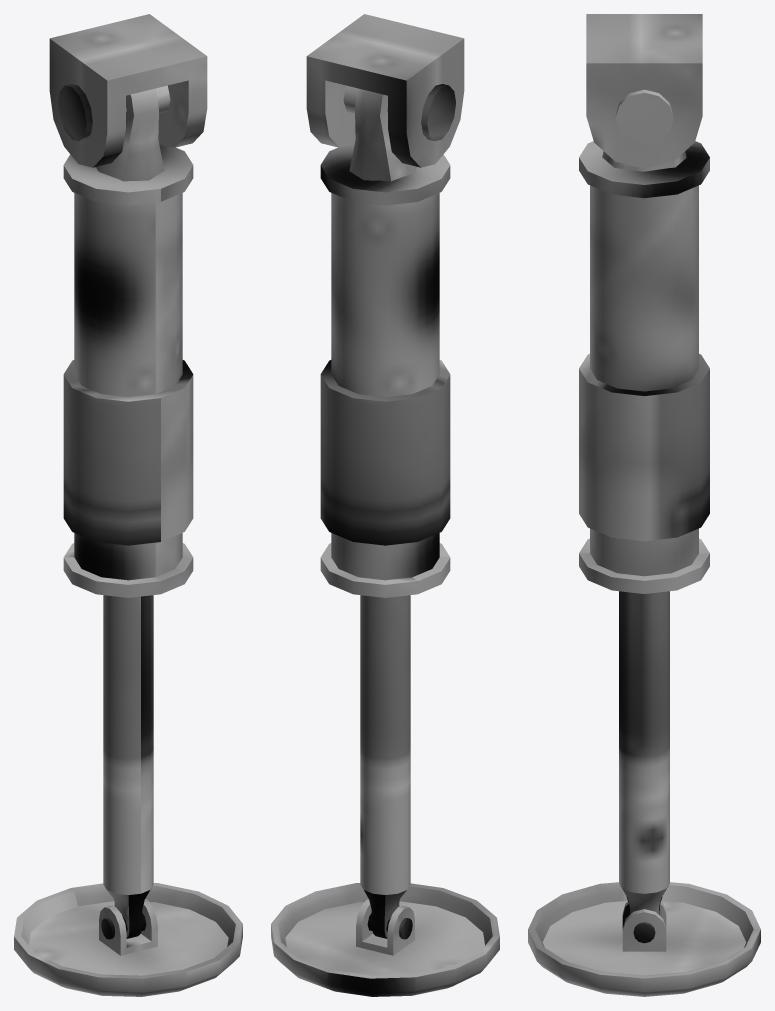
File: leg.fbx
The picture shows the model from 3 angles, left to right: view 1: azimuth 30°, elevation 25°; view 2: azimuth 150°, elevation 25°; view 3: azimuth 270°, elevation 25°; orthographic projection.
Parts seen in each view (by area): view 1: upper_leg, foot, base, lower_leg; view 2: upper_leg, foot, base, lower_leg; view 3: upper_leg, foot, base, lower_leg.
Part boxes in pixels (x1=…): upper_leg: x1=63, y1=85, x2=193, y2=597; foot: x1=14, y1=883, x2=242, y2=996; base: x1=49, y1=14, x2=207, y2=167; lower_leg: x1=103, y1=595, x2=153, y2=938; upper_leg: x1=320, y1=85, x2=450, y2=597; foot: x1=271, y1=883, x2=499, y2=996; base: x1=306, y1=14, x2=464, y2=167; lower_leg: x1=360, y1=595, x2=410, y2=938; upper_leg: x1=579, y1=141, x2=709, y2=593; foot: x1=528, y1=882, x2=760, y2=996; base: x1=586, y1=14, x2=702, y2=168; lower_leg: x1=619, y1=591, x2=669, y2=914.
Size of the model in its own units: 0.4 by 1.75 by 0.4.
